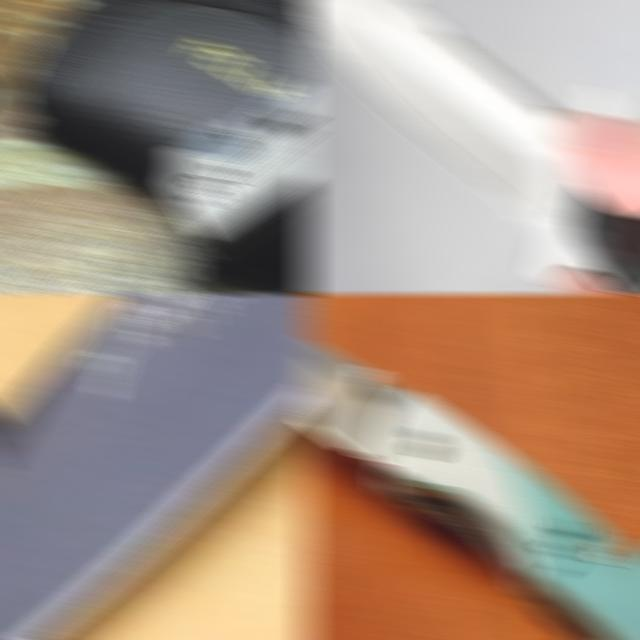Knife: (0, 293, 314, 640)
Knife_Handle: (300, 0, 640, 295)
